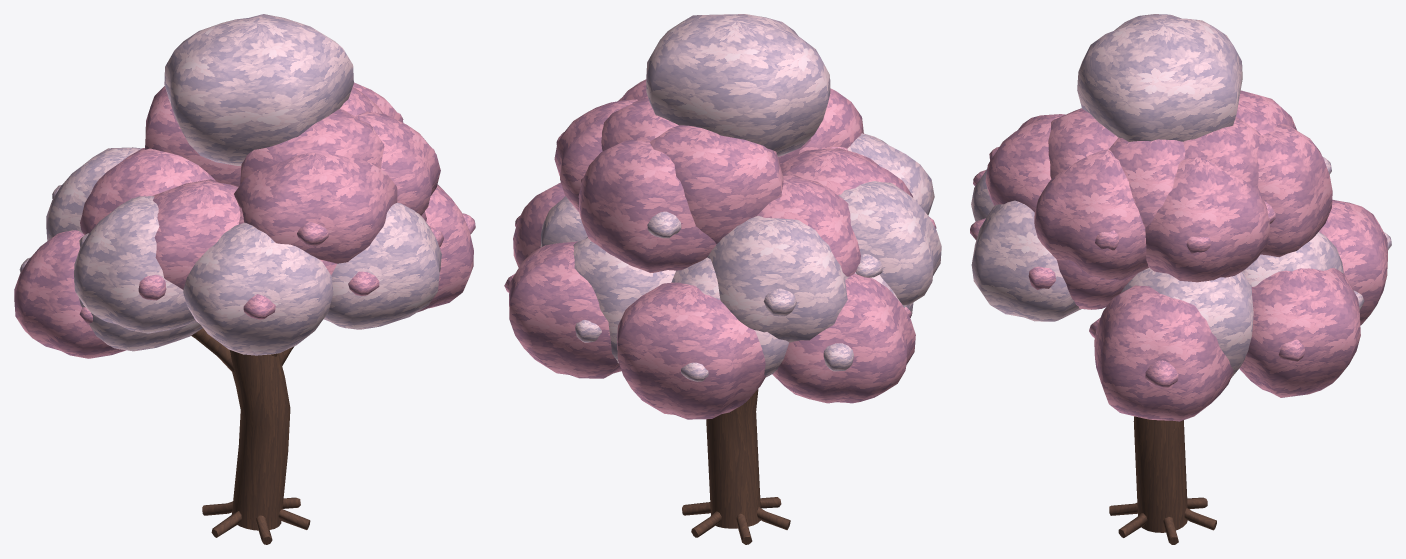
File: tree_1.glb
3 renders of one model, left to right at view 1: azimuth 30°, elevation 25°; view 2: azimuth 150°, elevation 25°; view 3: azimuth 270°, elevation 25°, orthographic.
Visible parts, largest first — view 1: tree_1; view 2: tree_1; view 3: tree_1.
Part boxes in pixels (x1,y1,x2,y2): tree_1: [14, 14, 475, 544]; tree_1: [504, 14, 941, 544]; tree_1: [970, 14, 1391, 544].
Bounding box in the file's own units: 5.99 × 6.81 × 5.23.
1 material, 1 textured.
